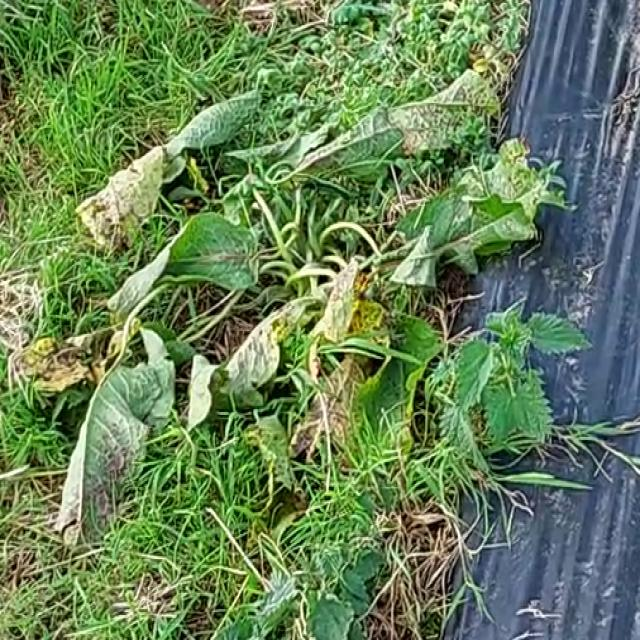organic waste: (50, 87, 568, 586)
